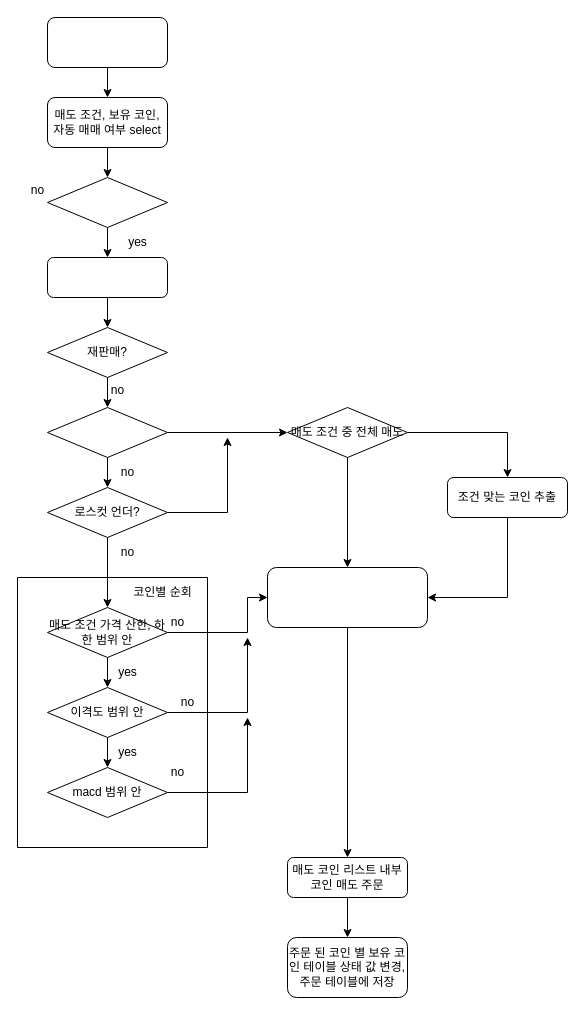
This 585x1015 diagram has some shape labels left out. Here are the shapes that lost their labels. From the top down, the box of each, then its label:
(46, 16, 168, 68): 자동매매 시작, 매시 01분 매수 프로세스 실행
(46, 176, 168, 228): 자동매매 동작?
(46, 256, 168, 298): 총 매수 금액 계산
(46, 406, 168, 458): 로스컷 오버?
(266, 566, 428, 628): 매도할 코인 리스트 append
